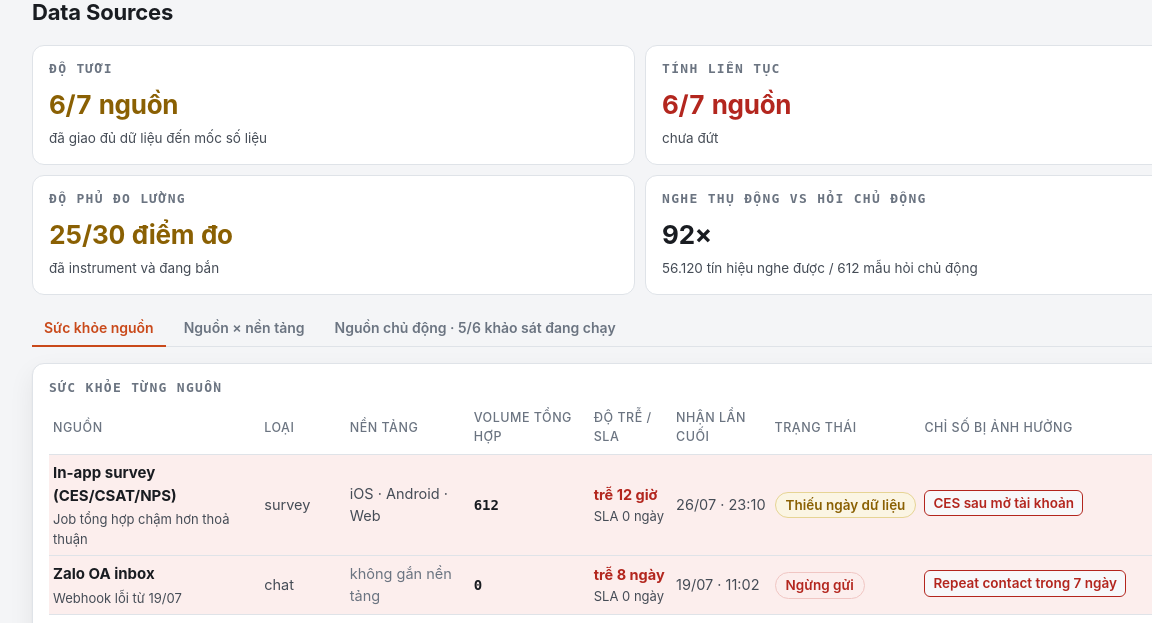
Scenario: SourcesPage — tab nguồn chủ động › cooldown đọc từ cấu hình, không phải số gõ tay
Click the tab with test id "src-tab-active". click: (475, 329)
box: [322,311,628,347]
(page scrolled)
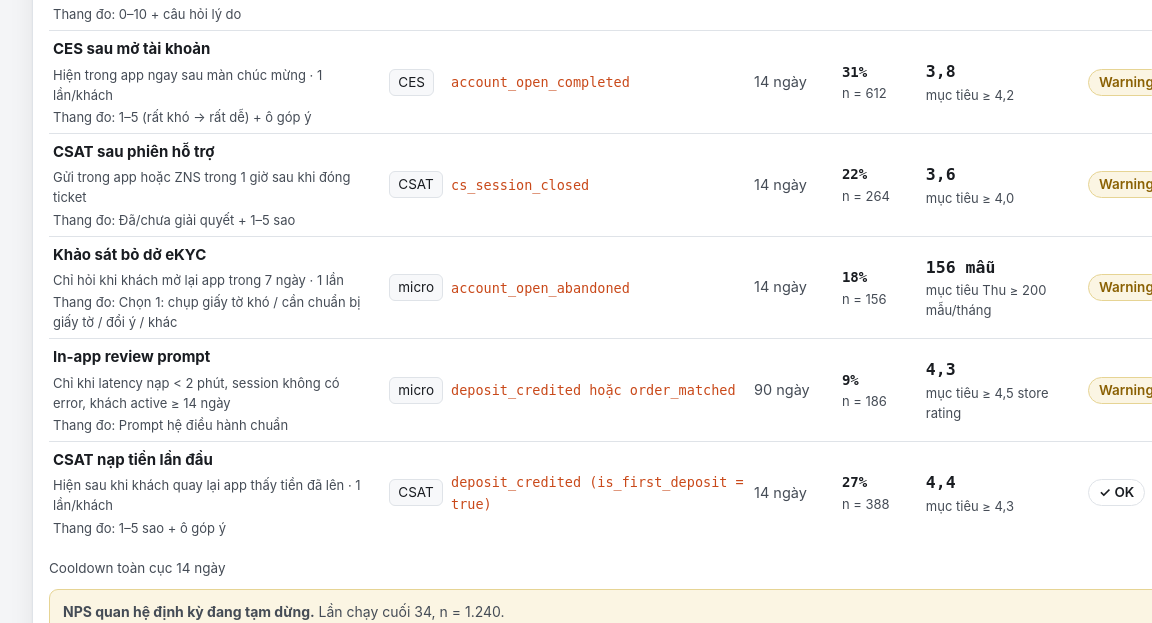
Check: the text with test id "src-cooldown" shows "14 ngày", box [49,560,226,576]
